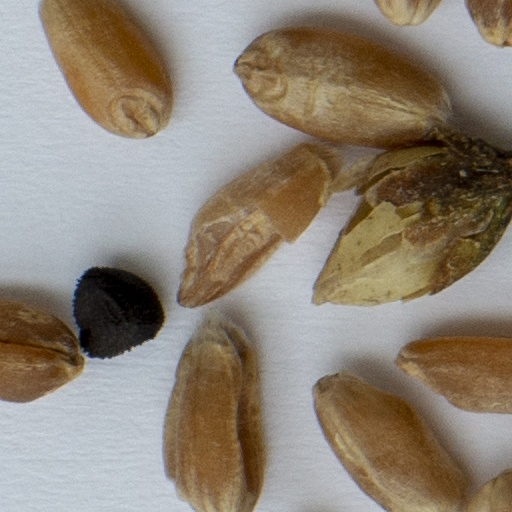Agrostemma-poly: (70, 263, 164, 362)
Peel-poly: (314, 132, 511, 303)
